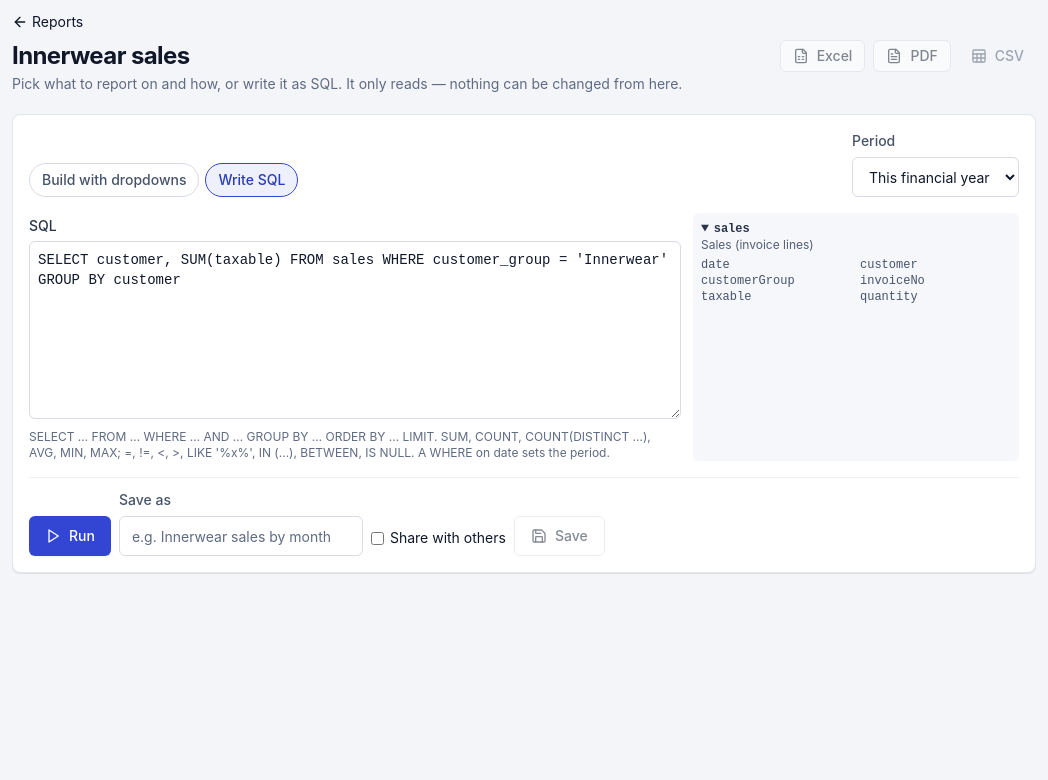
Test: building a report › opens a saved SQL query in the SQL box and runs it
Check: the text box labelled "SQL" holds "SELECT customer, SUM(taxable) FROM sales WHERE customer_group = 'Innerwear' GROUP BY customer", box 29,241 -> 681,419
Click the button "Run": x=70, y=536 29,516 -> 111,556
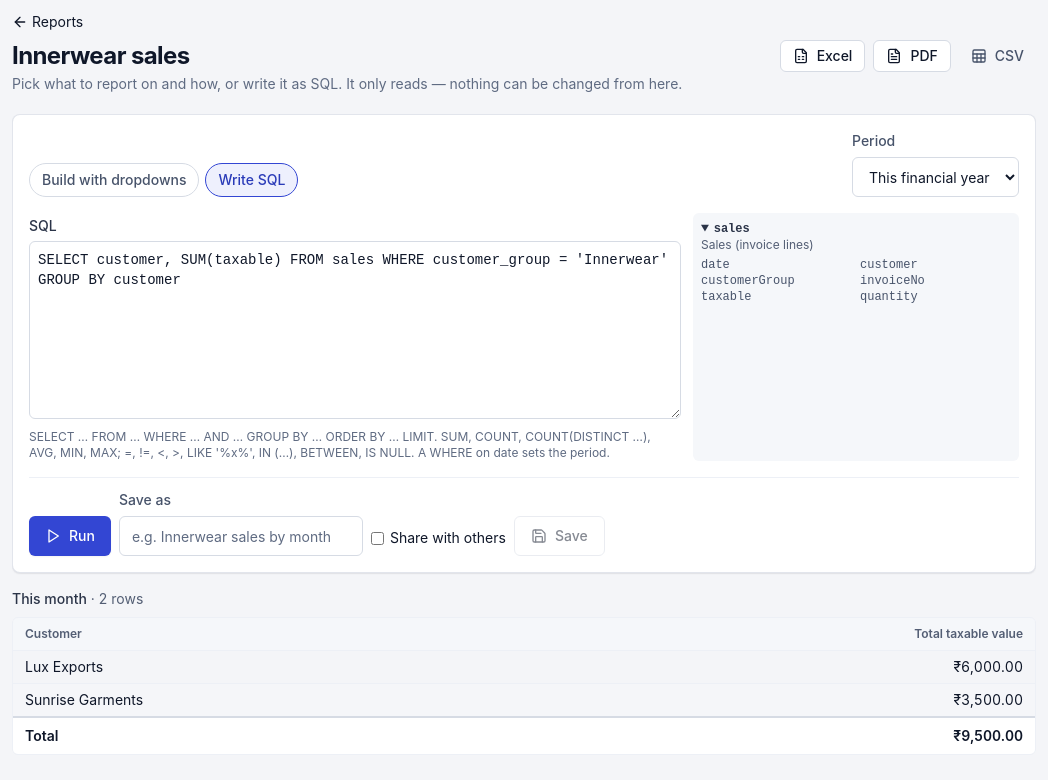
Check: the text "Lux Exports" is shown, box 13,650 -> 542,684
